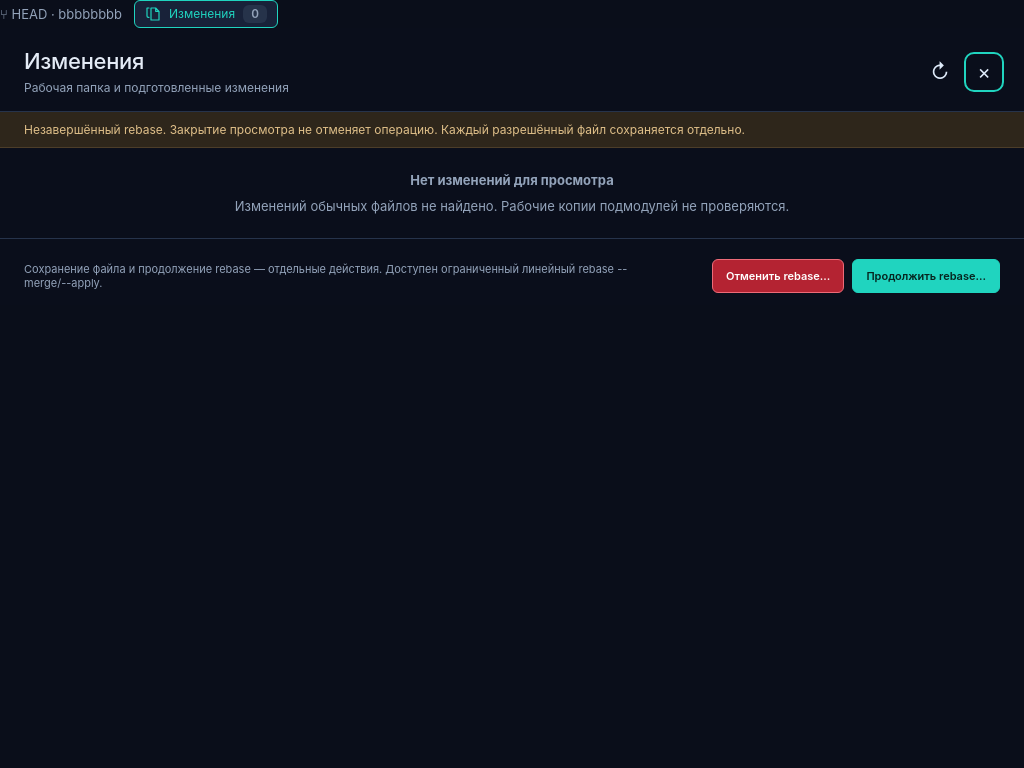
Test: rejects unsafe preview scope
The width and height of the screenshot is (1024, 768).
Click the button "Продолжить rebase…" at x=926, y=276, box [852,259,1000,293]
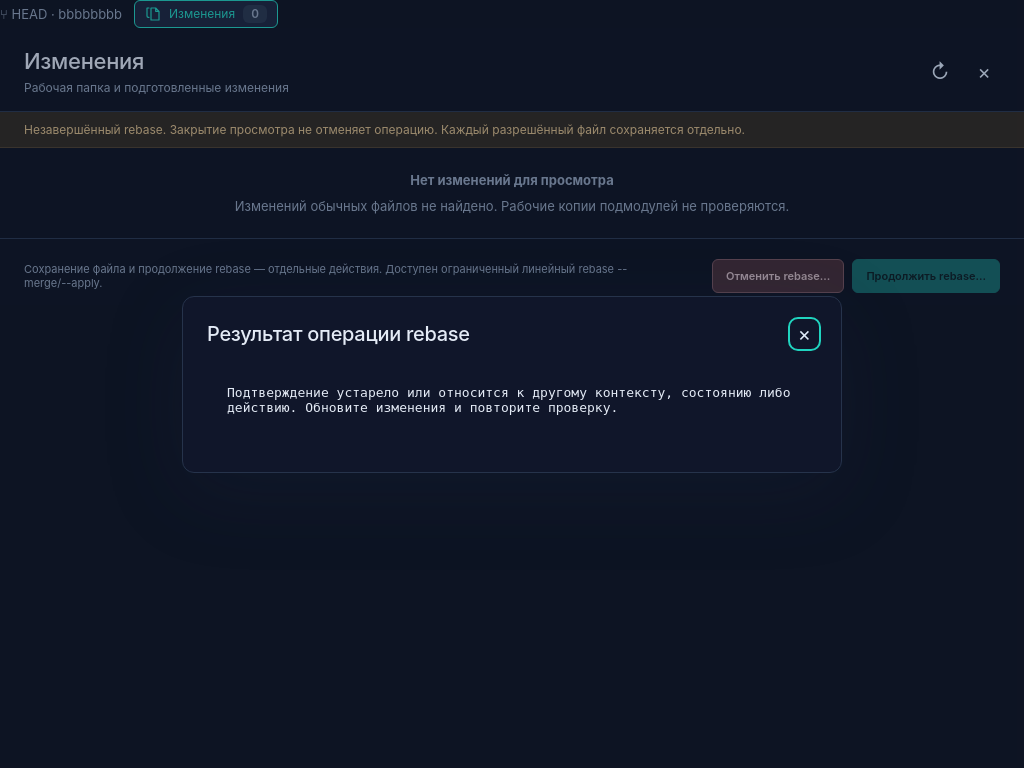
expect the dialog "Результат операции rebase" shows "Подтверждение": met, box [227,384,798,414]
